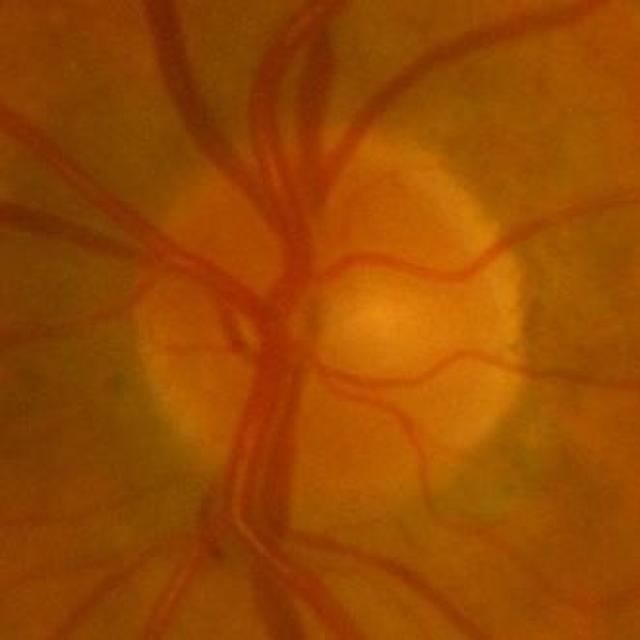OC: (292, 257, 434, 370)
OD: (142, 127, 531, 538)
